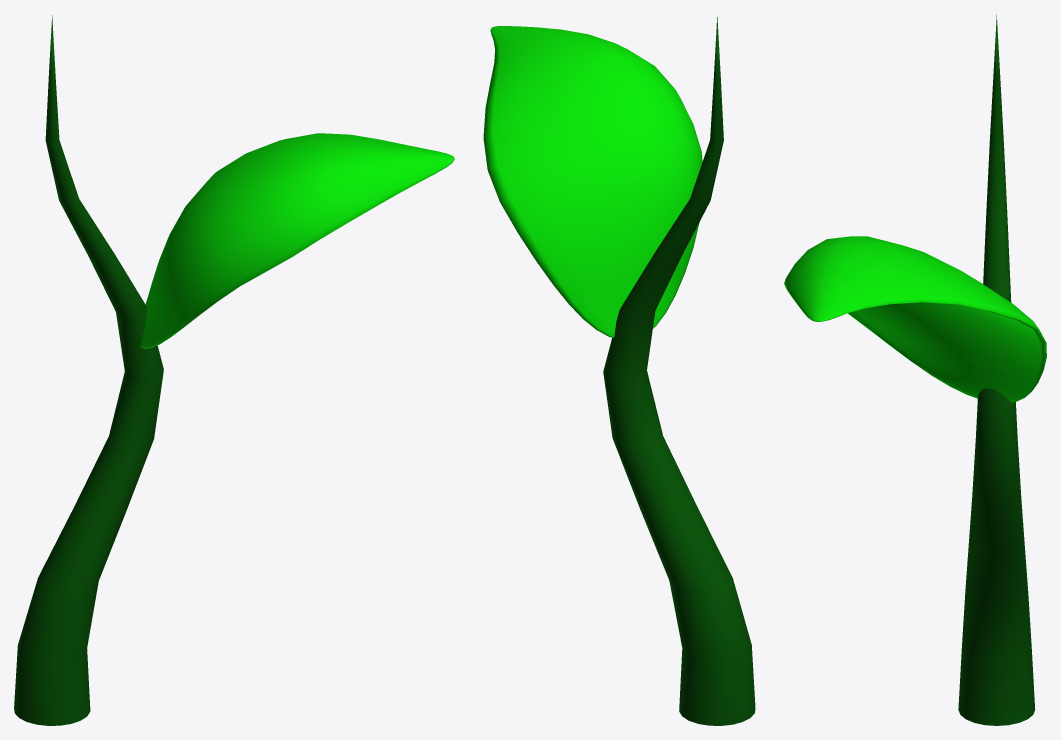
Rendered from Plant 1 stage 0.fbx.
The picture shows the model from 3 angles, left to right: view 1: azimuth 30°, elevation 25°; view 2: azimuth 150°, elevation 25°; view 3: azimuth 270°, elevation 25°; orthographic projection.
Parts seen in each view (by area): view 1: pasted__pasted__pasted__pasted__pSphere1, pCone1; view 2: pasted__pasted__pasted__pasted__pSphere1, pCone1; view 3: pasted__pasted__pasted__pasted__pSphere1, pCone1.
Part boxes in pixels (x1,y1,x2,y2): pasted__pasted__pasted__pasted__pSphere1: [140, 133, 454, 348]; pCone1: [14, 15, 163, 725]; pasted__pasted__pasted__pasted__pSphere1: [483, 26, 702, 337]; pCone1: [603, 17, 755, 725]; pasted__pasted__pasted__pasted__pSphere1: [784, 236, 1046, 402]; pCone1: [958, 14, 1035, 725].
Size of the model in its own units: 1.04 by 2 by 0.685.
